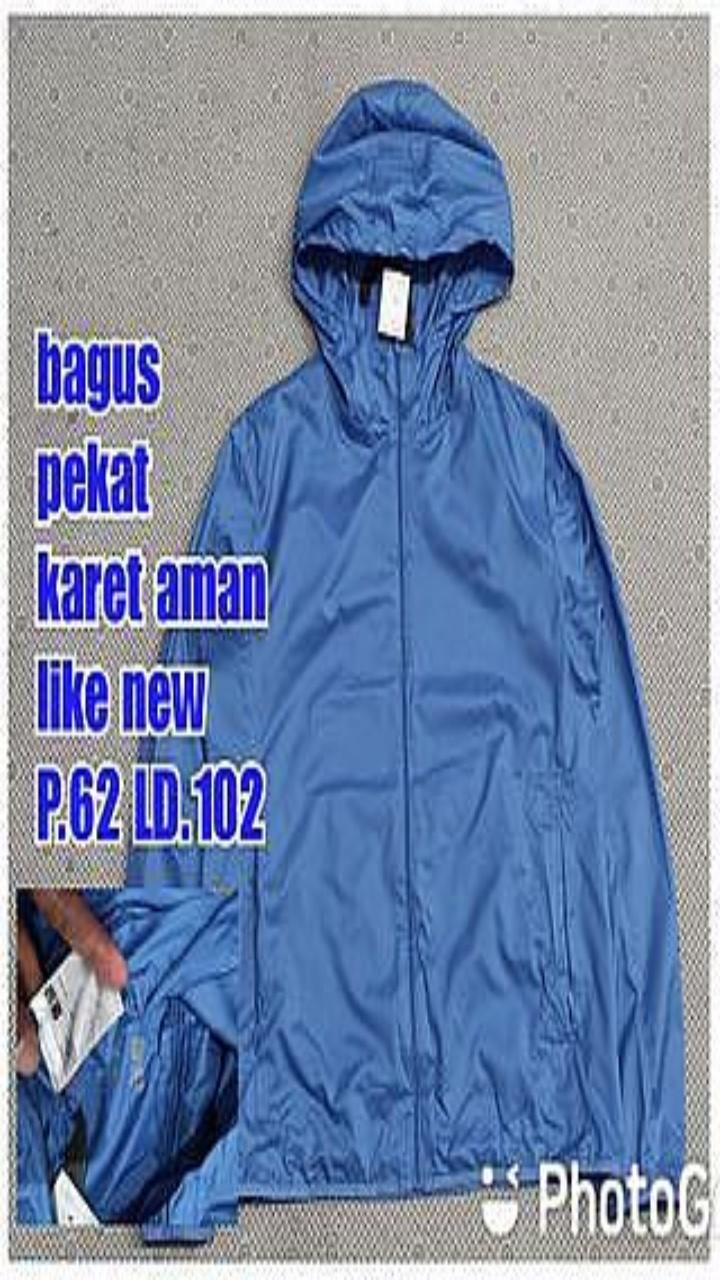Coat: (129, 82, 682, 1197), (16, 889, 240, 1240)
